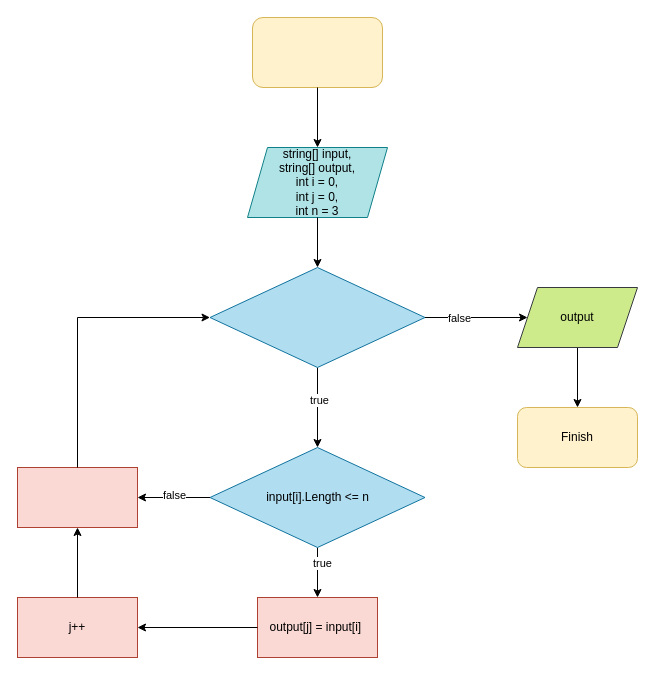
The diagram is 655 pixels wide and 675 high, and some of its shapes have lost their labels. The shapes that lost their labels are listed below. From the top down, each one's centre as x and y in pixels, then its label:
pixel 317 52: Start
pixel 317 317: i < input.Length
pixel 77 497: i++
